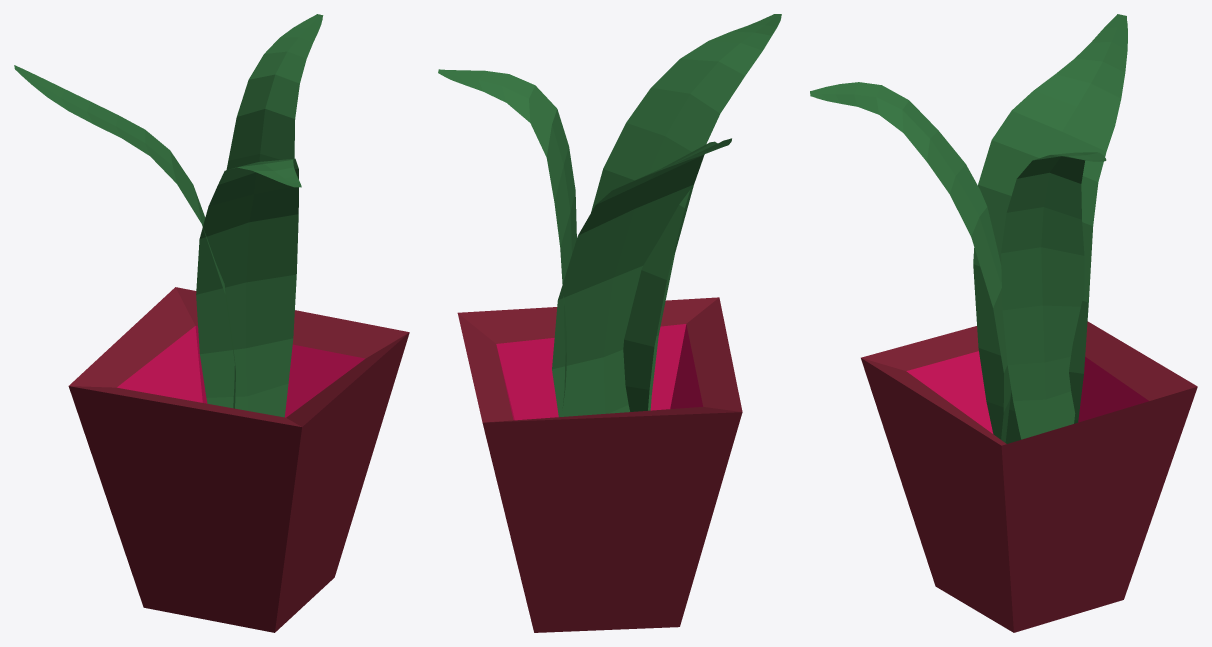
File: flower1.fbx
3 renders of one model, left to right at view 1: azimuth 30°, elevation 25°; view 2: azimuth 150°, elevation 25°; view 3: azimuth 270°, elevation 25°, orthographic. The views are drawn at different scales.
Visible parts, largest first — view 1: Cube.001; view 2: Cube.001; view 3: Cube.001.
Part boxes in pixels (x1=…): Cube.001: x1=14, y1=14, x2=409, y2=632; Cube.001: x1=438, y1=14, x2=781, y2=632; Cube.001: x1=810, y1=14, x2=1197, y2=632.
Bounding box in the file's own units: 303 × 462 × 326.
